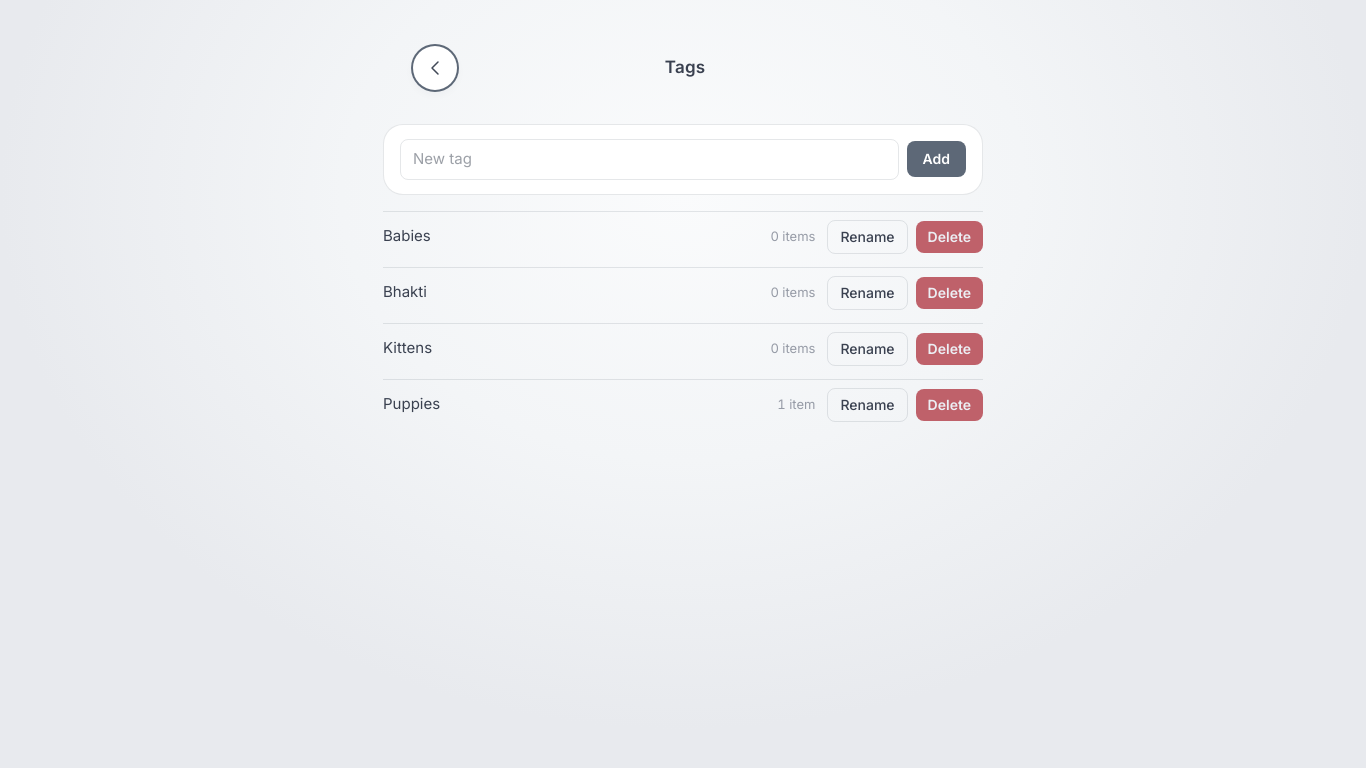
Scenario: TagsScreen › deletes a tag after confirmation and strips it from sources
Click the button "Delete" in the row of "1 item": (949, 404) left=916, top=388, right=983, bottom=420
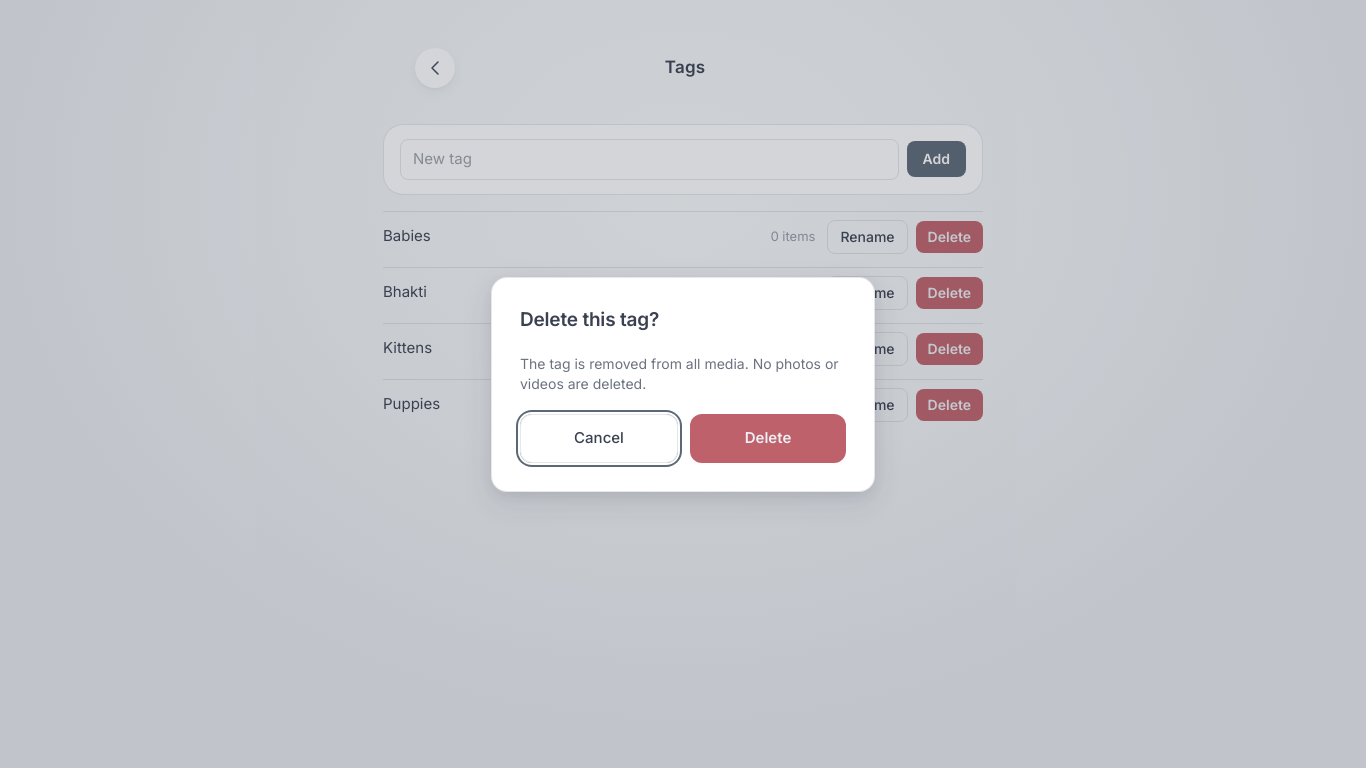
Click the button "Delete": (768, 438) left=690, top=414, right=846, bottom=462
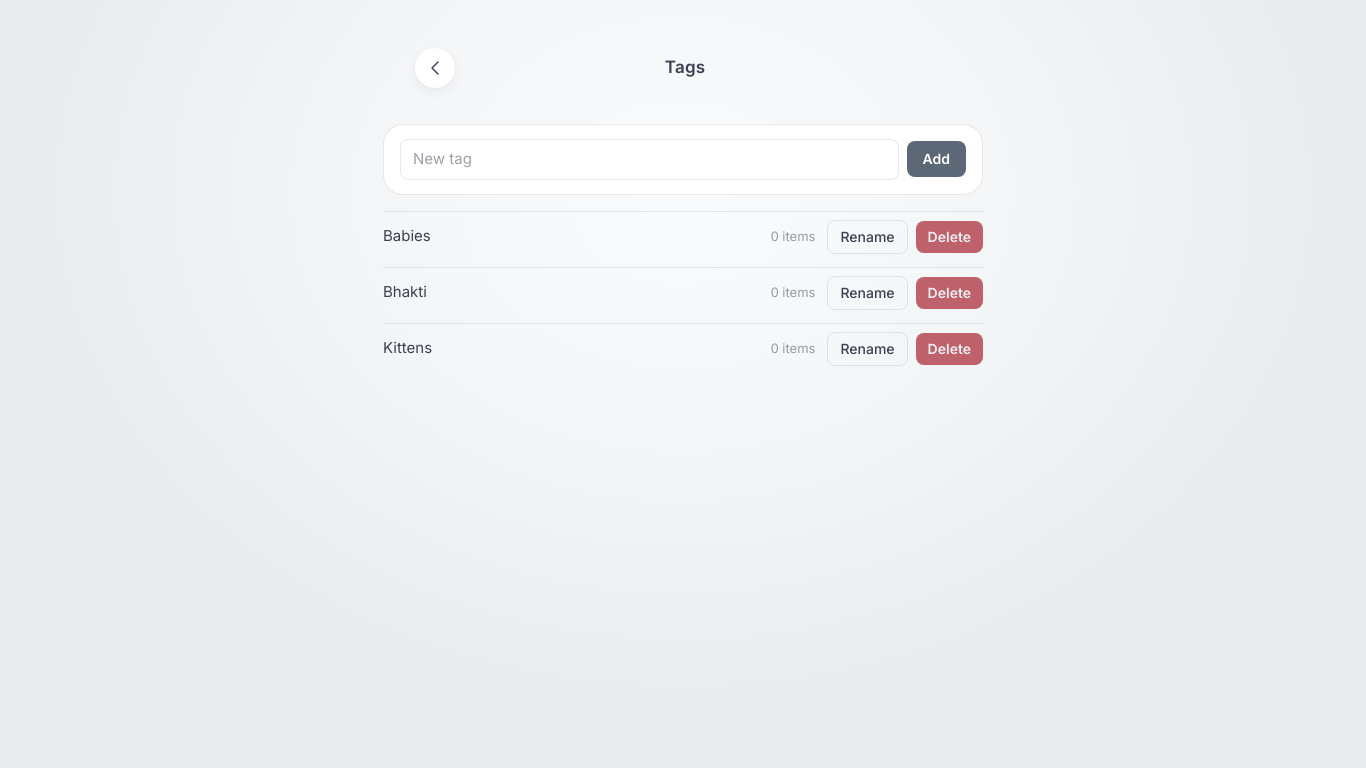
Now the text "Puppies" is gone
